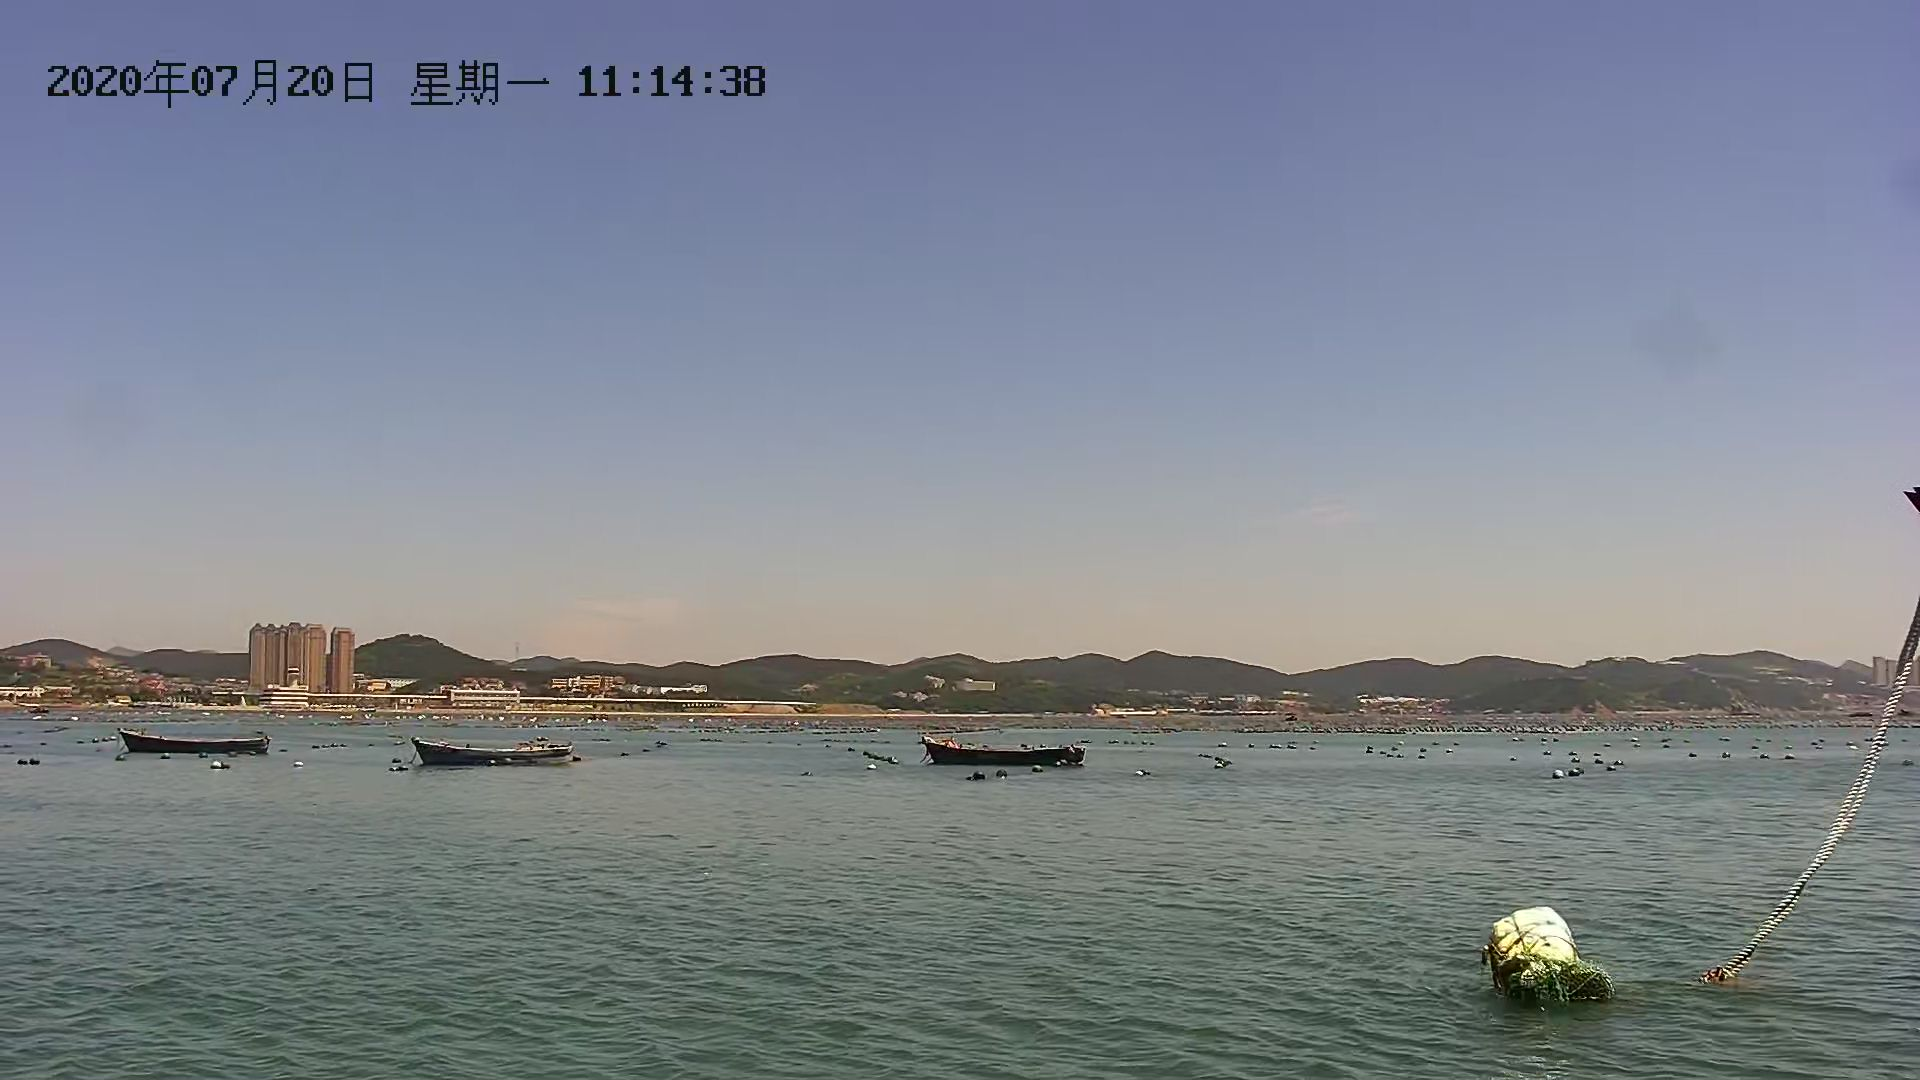ball: (1466, 905, 1673, 1004)
boat: (404, 731, 591, 775), (899, 731, 1096, 770), (112, 720, 278, 764)
